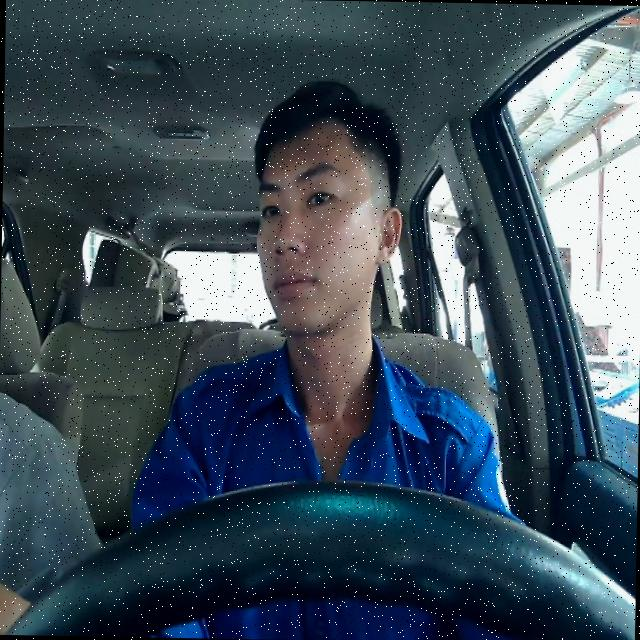seeing_left: (253, 105, 403, 332)
